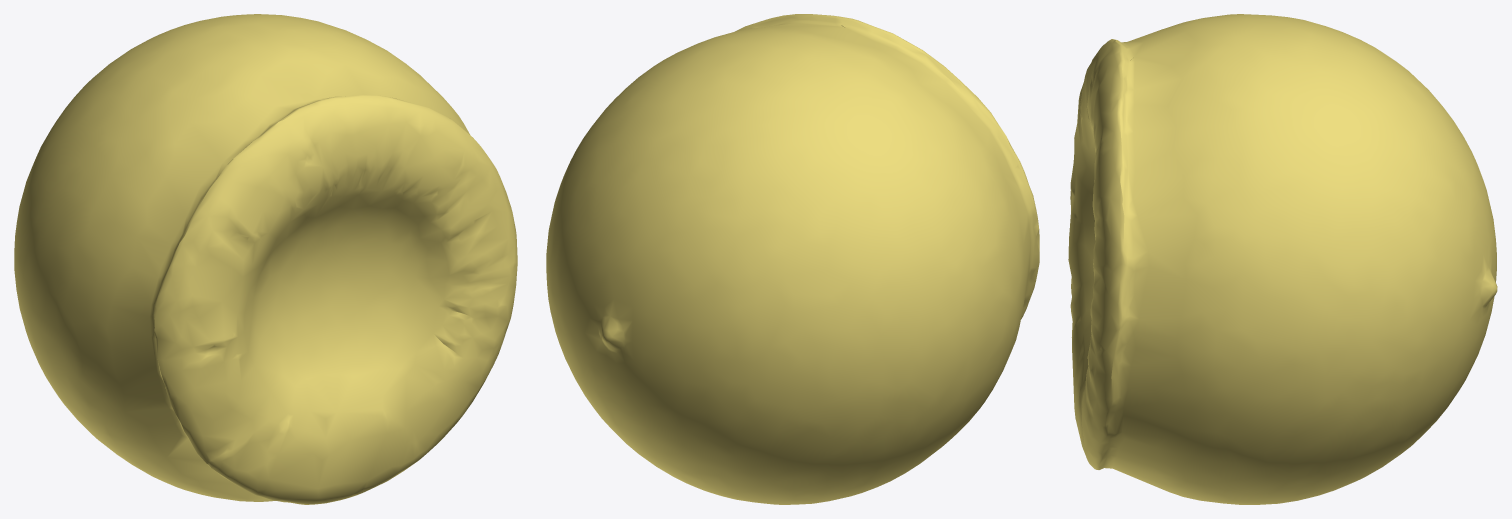
The model's file is vitreous-body-l.glb.
The picture shows the model from 3 angles, left to right: view 1: azimuth 30°, elevation 25°; view 2: azimuth 150°, elevation 25°; view 3: azimuth 270°, elevation 25°; orthographic projection. The views are drawn at different scales.
Visible parts, largest first — view 1: Vitreous body.l; view 2: Vitreous body.l; view 3: Vitreous body.l.
Part boxes in pixels (<box>): Vitreous body.l: <box>14,14,517,504</box>; Vitreous body.l: <box>546,14,1039,504</box>; Vitreous body.l: <box>1068,14,1497,504</box>.
Bounding box in the file's own units: 0.0204 × 0.0203 × 0.0177.
